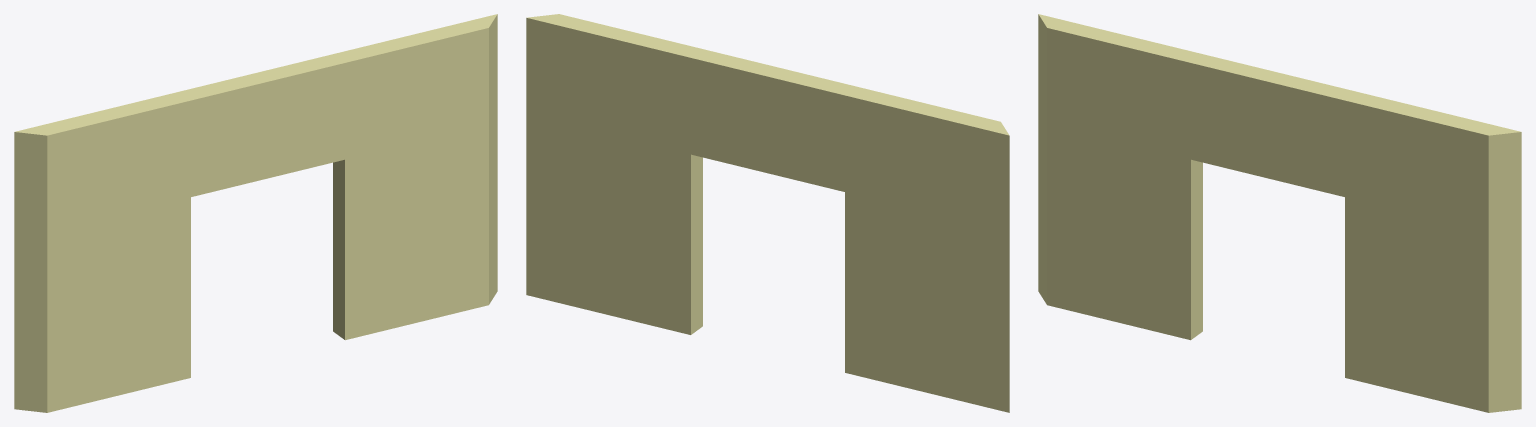
Rendered from Walls and Floors with Doors.fbx_CWall_Outer_Outer_Door.fbx.
3 views of the same model, side by side, from view 1: azimuth 30°, elevation 25°; view 2: azimuth 150°, elevation 25°; view 3: azimuth 330°, elevation 25° (orthographic).
Visible parts, largest first — view 1: CWall Outer Outer Door; view 2: CWall Outer Outer Door; view 3: CWall Outer Outer Door.
Boxes of the visible parts, bbox=[...] form: CWall Outer Outer Door: bbox=[14, 14, 497, 412]; CWall Outer Outer Door: bbox=[526, 14, 1009, 412]; CWall Outer Outer Door: bbox=[1038, 14, 1521, 412].
Bounding box in the file's own units: 1641 × 900 × 70.71.
